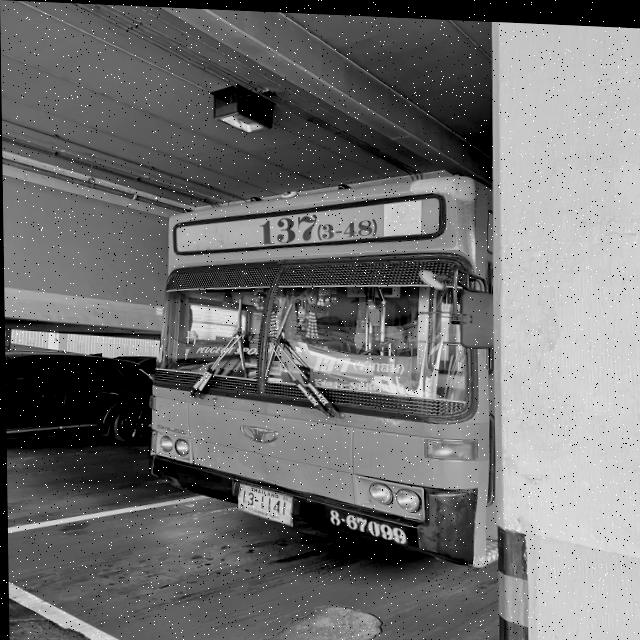BMTA-bus: (144, 160, 500, 565)
Bus-Line-Number: (255, 197, 384, 248)
Destination-Sign-Normal: (308, 349, 411, 391)
